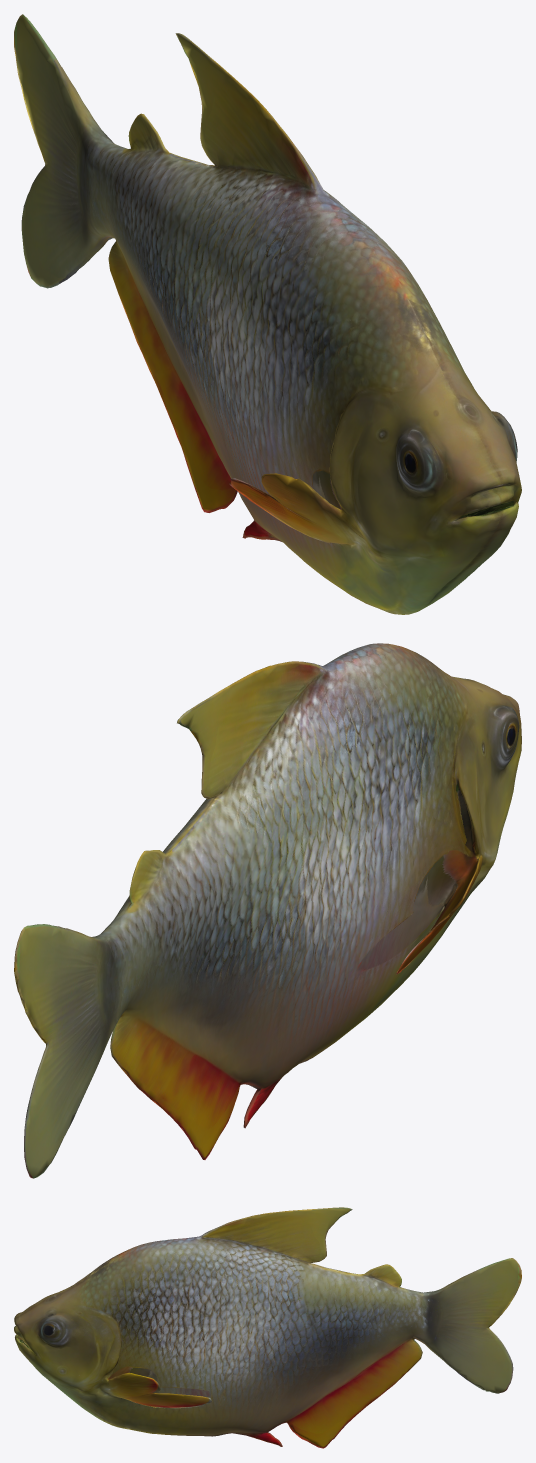
The model's file is tetra_perak_0604072412_texture.glb.
3 views of the same model, one above another, from view 1: azimuth 30°, elevation 25°; view 2: azimuth 150°, elevation 25°; view 3: azimuth 270°, elevation 25° (orthographic). The views are drawn at different scales.
Bounding box in the file's own units: 0.4875 × 1.04 × 1.99.
Materials: 1 (1 with a texture image).
